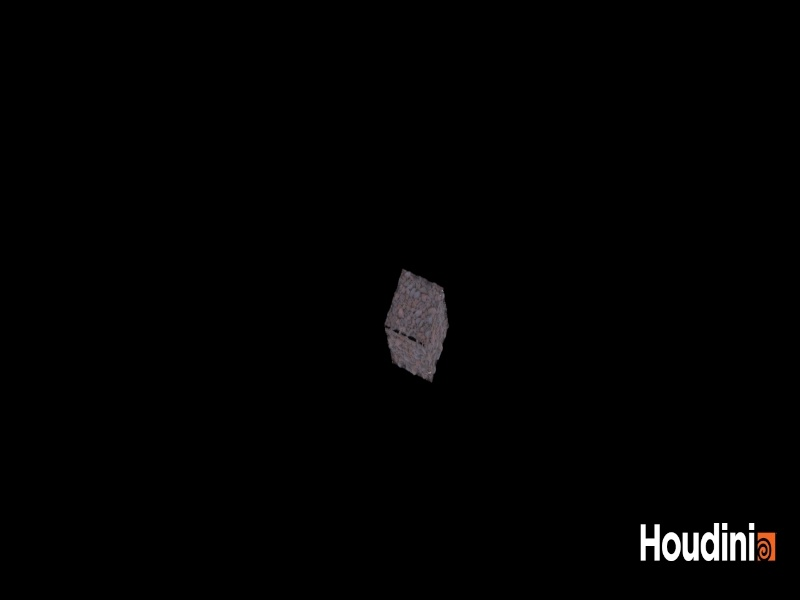waste: (371, 252, 468, 392)
